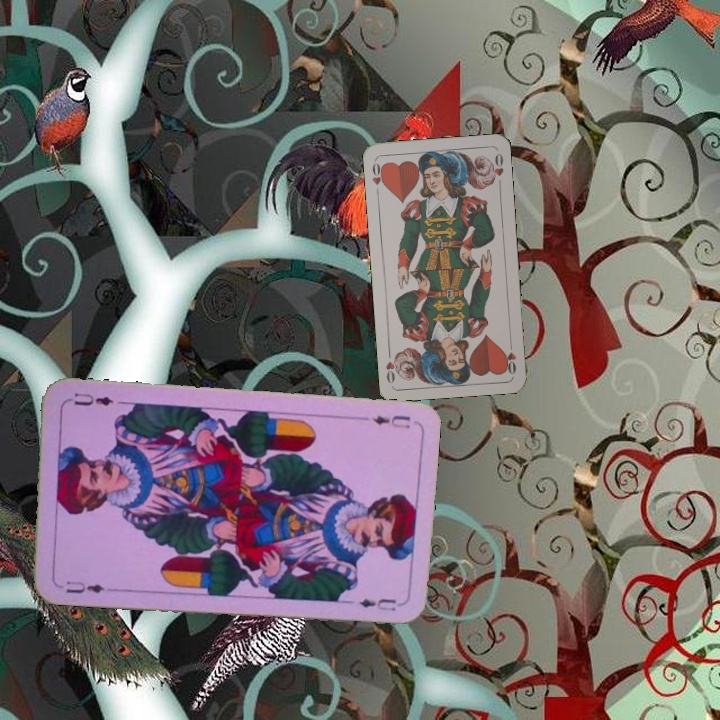EU: (61, 576, 107, 596), (368, 411, 413, 431)
HO: (368, 157, 387, 198), (501, 336, 519, 377)
